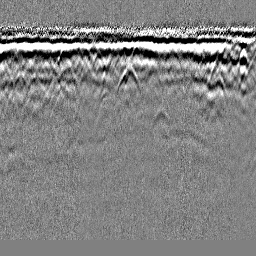cavity: (115, 64, 142, 97)
